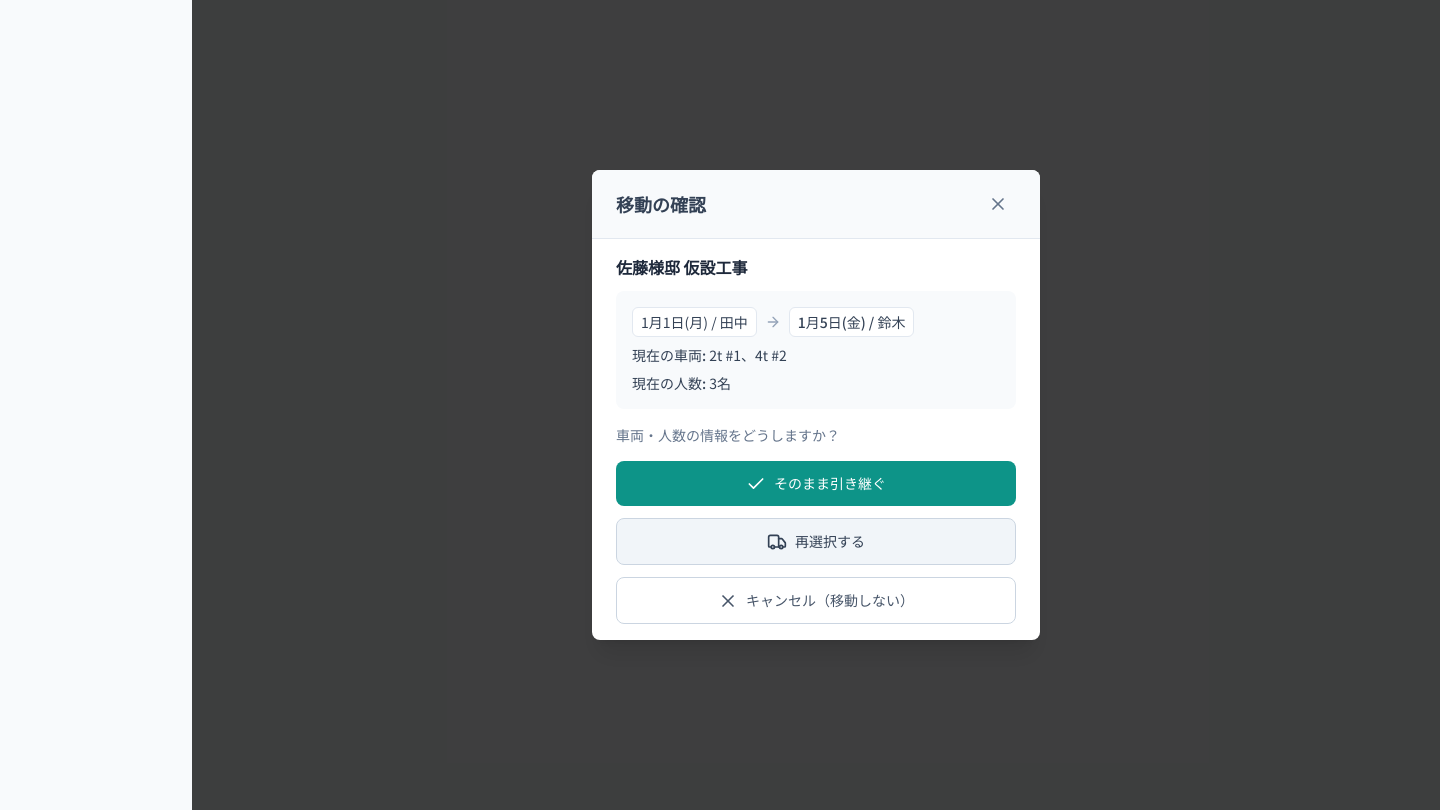
MoveConfirmModal › switches to reassign view, preselects available current trucks, grays out in-use
Click the button "再選択する" at (816, 542), box left=616, top=518, right=1016, bottom=565
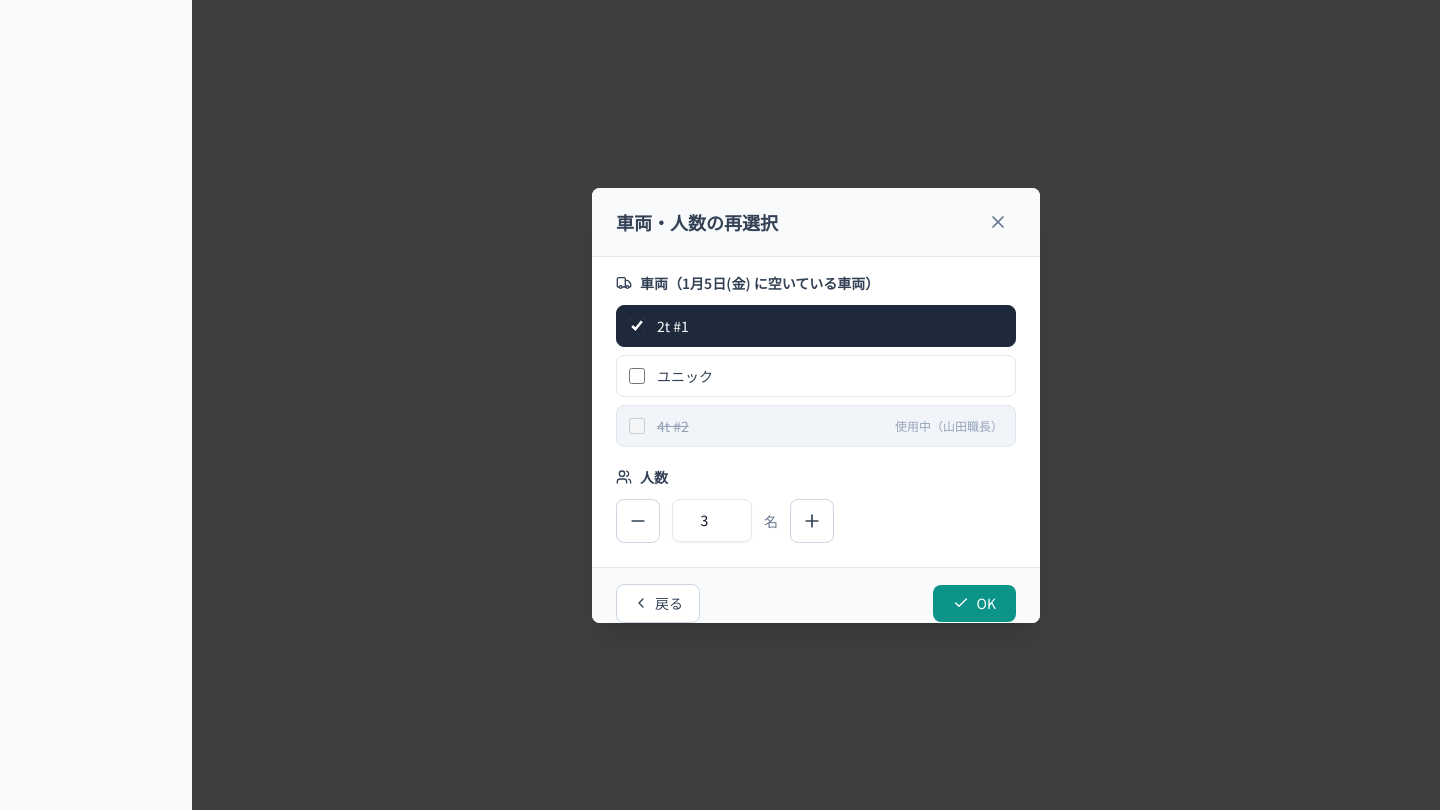
Check: the text "使用中（山田職長）" is shown, box left=895, top=418, right=1003, bottom=434
Check: the checkbox labelled "2t #1" is checked, box left=629, top=318, right=645, bottom=334
Check: the checkbox labelled "ユニック" is not checked, box left=629, top=368, right=645, bottom=384
